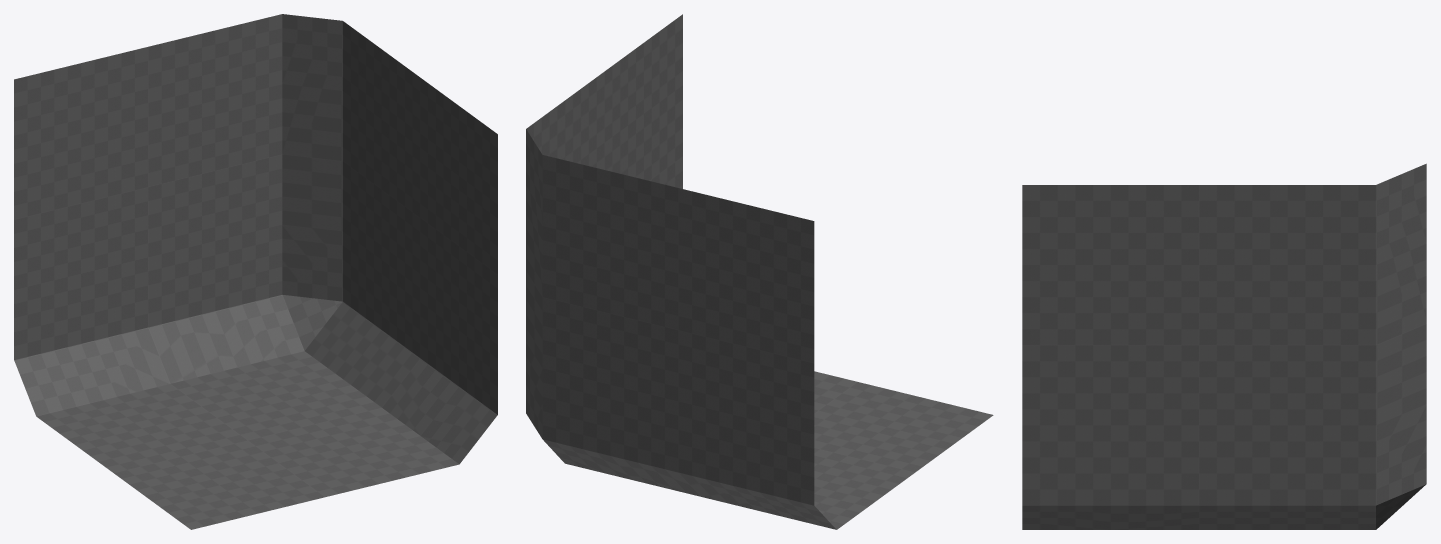
The picture shows the model from 3 angles, left to right: view 1: azimuth 30°, elevation 25°; view 2: azimuth 150°, elevation 25°; view 3: azimuth 270°, elevation 25°; orthographic projection. The views are drawn at different scales.
Parts seen in each view (by area): view 1: 0; view 2: 0; view 3: 0.
Part boxes in pixels (x1,y1,x2,y2): 0: [14, 14, 497, 529]; 0: [526, 14, 993, 529]; 0: [1022, 163, 1426, 529].
Bounding box in the file's own units: 2 × 2 × 2.
1 material, 1 textured.
